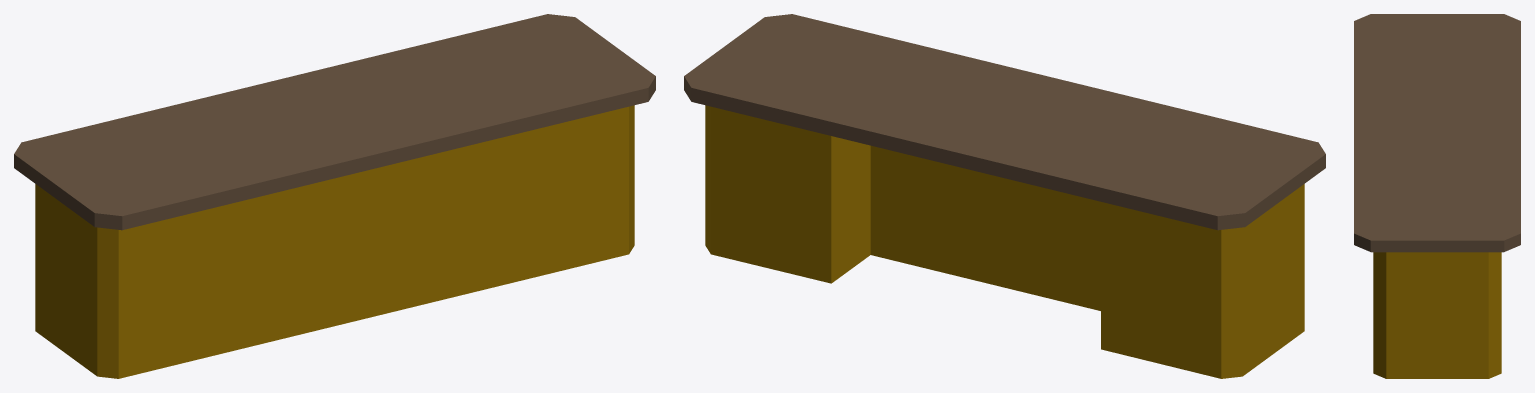
File: Mesa Caja.fbx
The picture shows the model from 3 angles, left to right: view 1: azimuth 30°, elevation 25°; view 2: azimuth 150°, elevation 25°; view 3: azimuth 270°, elevation 25°; orthographic projection. The views are drawn at different scales.
Parts seen in each view (by area): view 1: polySurface59, polySurface58; view 2: polySurface59, polySurface58; view 3: polySurface58, polySurface59.
Part boxes in pixels (x1=…): polySurface59: x1=35, y1=105, x2=634, y2=378; polySurface58: x1=14, y1=14, x2=655, y2=230; polySurface59: x1=705, y1=105, x2=1304, y2=378; polySurface58: x1=684, y1=14, x2=1325, y2=230; polySurface58: x1=1354, y1=14, x2=1520, y2=252; polySurface59: x1=1373, y1=252, x2=1501, y2=378.
Bounding box in the file's own units: 4.54 × 1.34 × 1.41.
